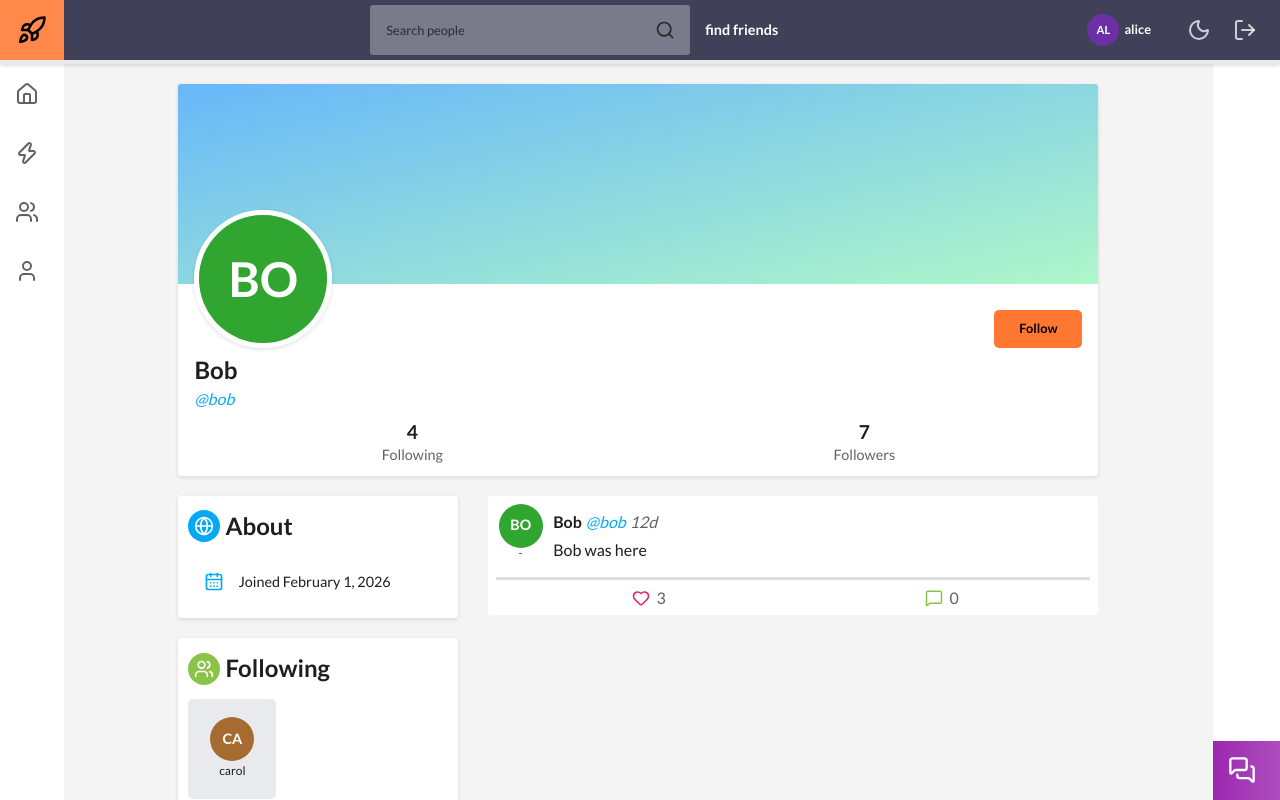
Test: profile page › follows from the profile and raises the follower count at once
Click the button named "Follow bob".
click(1038, 329)  # box x1=994 y1=310 x2=1082 y2=348
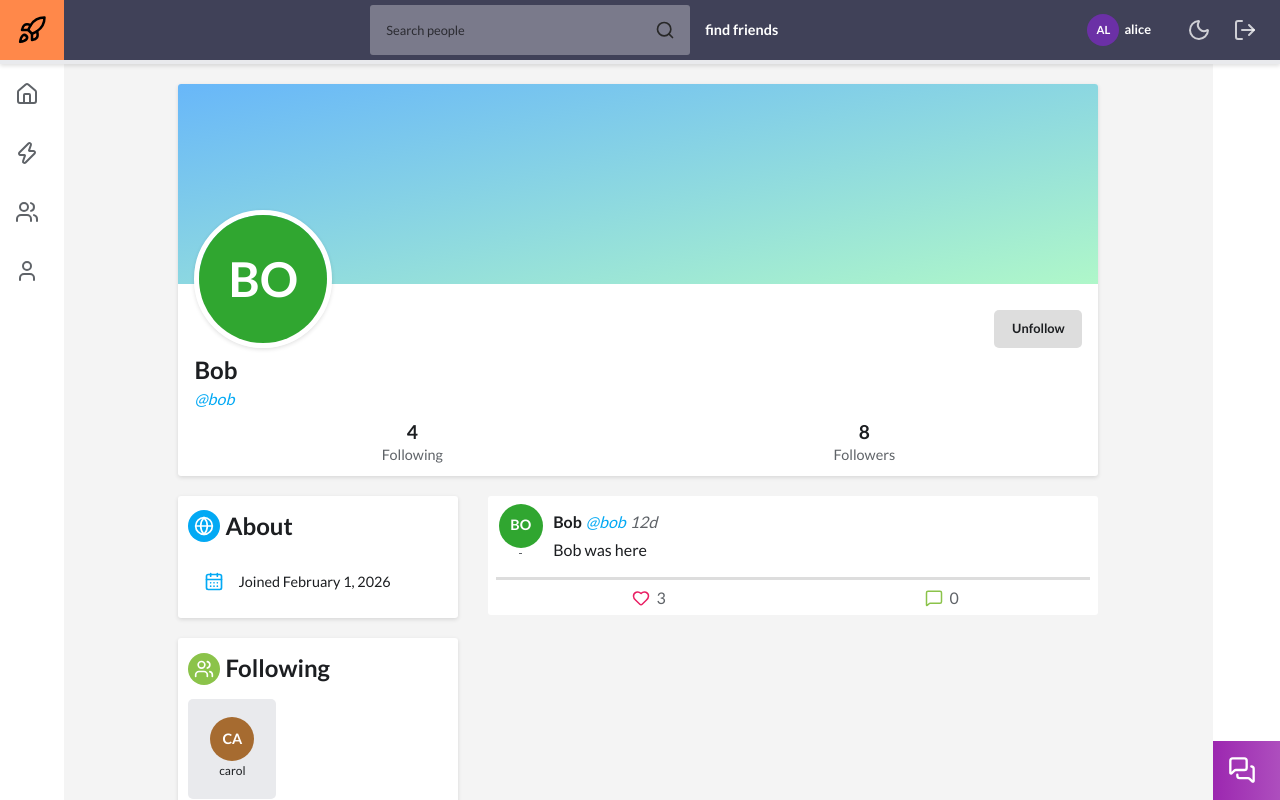
Check: the text "8" is shown, box x1=859 y1=420 x2=870 y2=443
